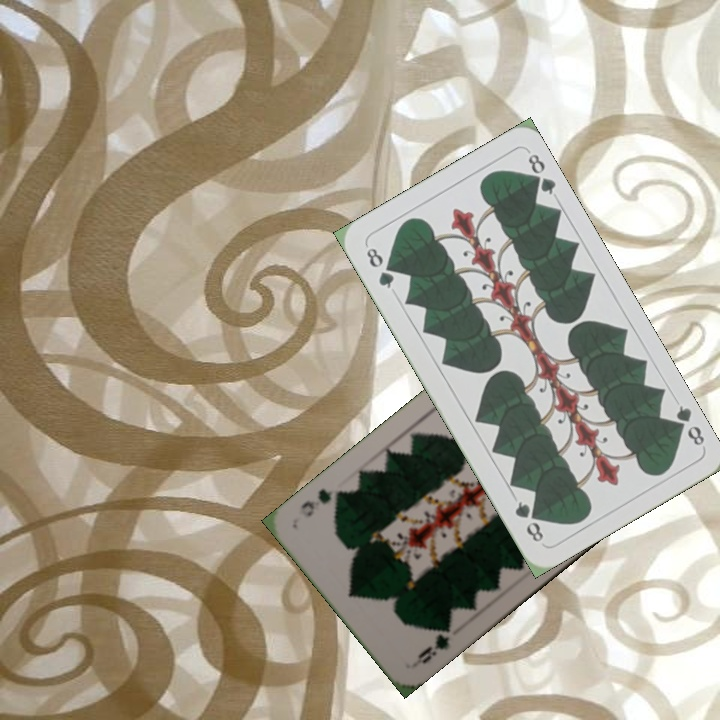G8: (667, 401, 708, 449), (362, 243, 397, 292)
G9: (409, 619, 454, 670)
